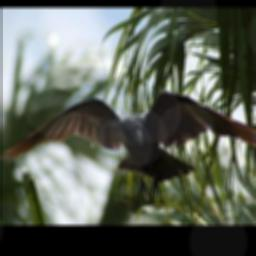Crow: (2, 88, 256, 200)
